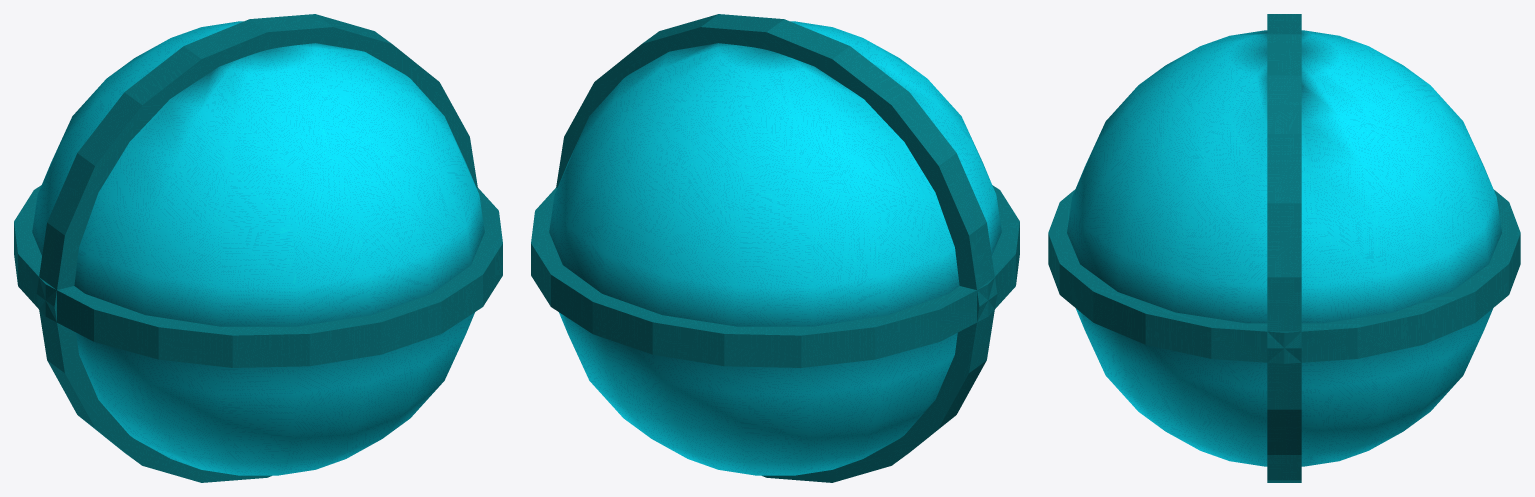
The model's file is orb.glb.
The picture shows the model from 3 angles, left to right: view 1: azimuth 30°, elevation 25°; view 2: azimuth 150°, elevation 25°; view 3: azimuth 270°, elevation 25°; orthographic projection. The views are drawn at different scales.
Visible parts, largest first — view 1: orb; view 2: orb; view 3: orb.
Boxes of the visible parts, x1,y1,x2,y2 form: orb: (14,14,502,482); orb: (531,14,1019,482); orb: (1048,14,1520,482).
Size of the model in its own units: 0.344 by 0.344 by 0.344.
Materials: 1 (1 with a texture image).
